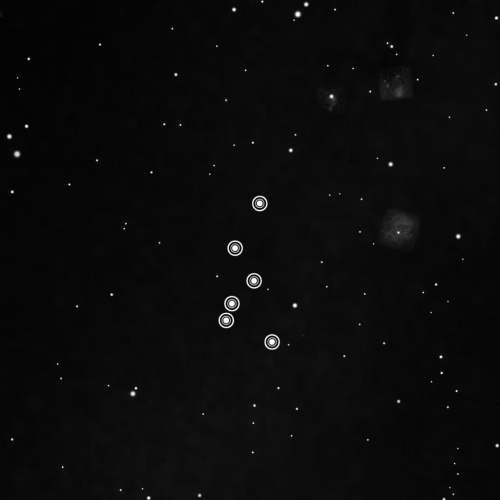cassiopeia: (212, 190, 285, 355)
